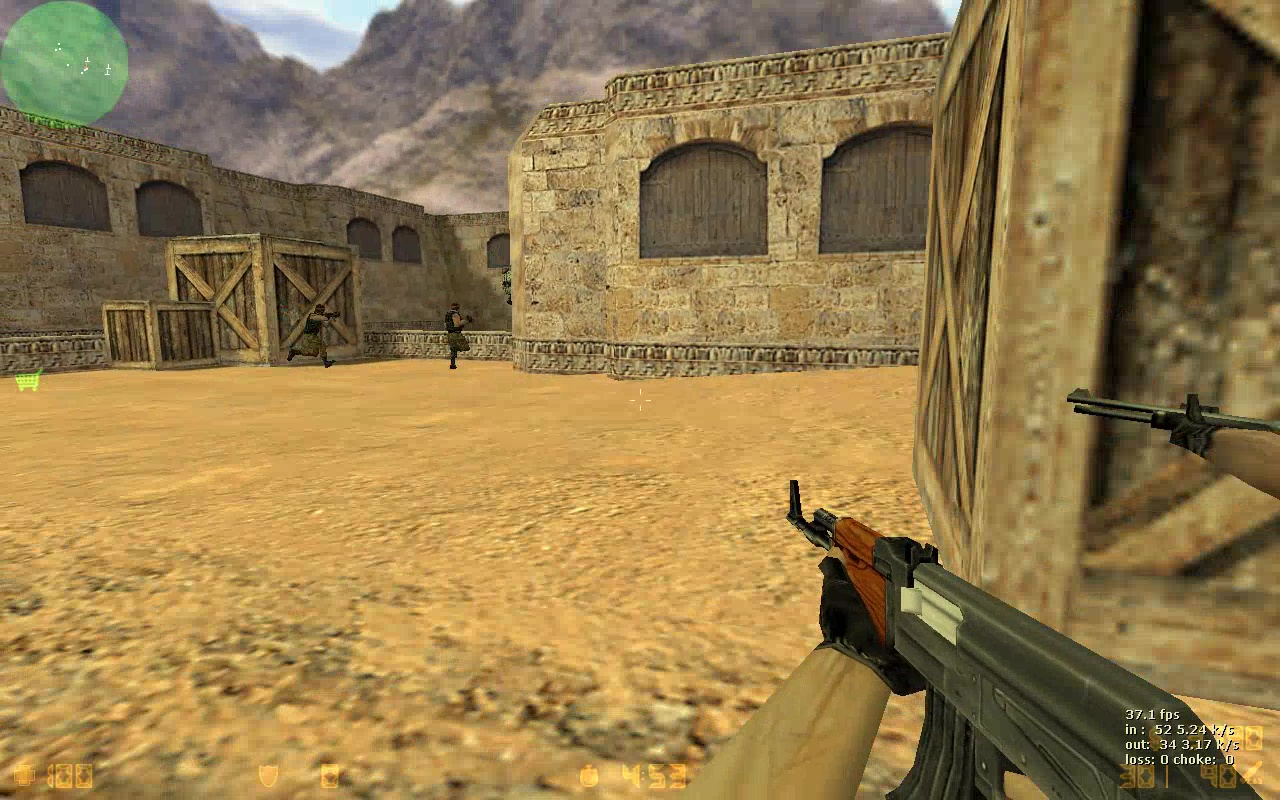terr1: (288, 302, 341, 367), (444, 305, 471, 369)
